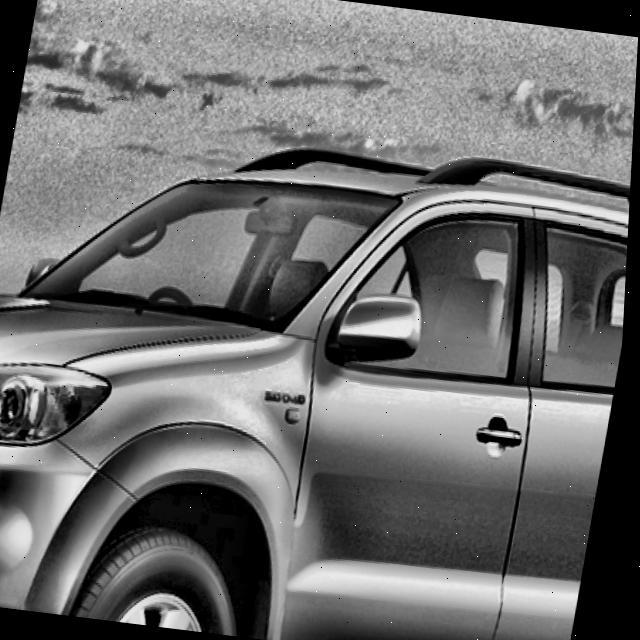light_vehicle: (0, 100, 636, 640)
